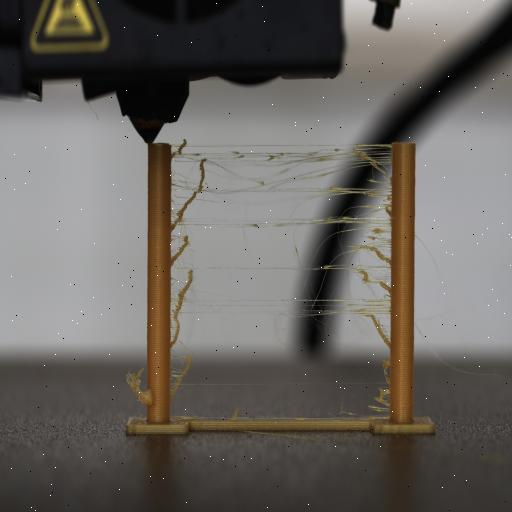stringing: (170, 135, 390, 325), (368, 355, 392, 417), (121, 372, 155, 415), (170, 355, 190, 409)
